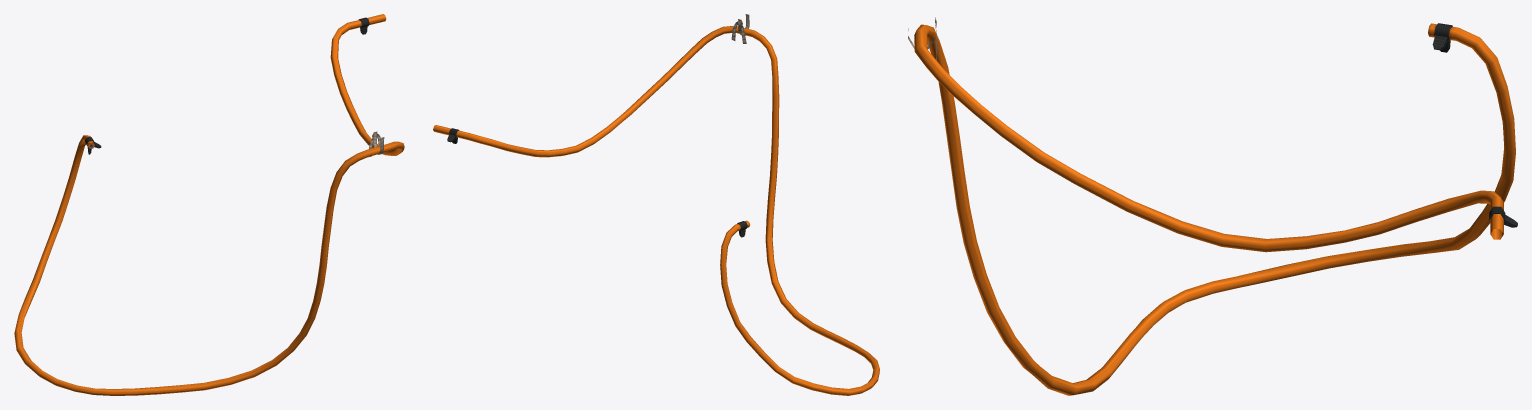
File: jsf_GasRange_07c.fbx
3 renders of one model, left to right at view 1: azimuth 30°, elevation 25°; view 2: azimuth 150°, elevation 25°; view 3: azimuth 270°, elevation 25°, orthographic. The views are drawn at different scales.
Visible parts, largest first — view 1: GasHose; view 2: GasHose; view 3: GasHose.
Boxes of the visible parts, bbox=[...] form: GasHose: bbox=[14, 14, 404, 395]; GasHose: bbox=[433, 14, 879, 395]; GasHose: bbox=[908, 17, 1517, 395].
Size of the model in its own units: 110 by 68.1 by 79.76.
